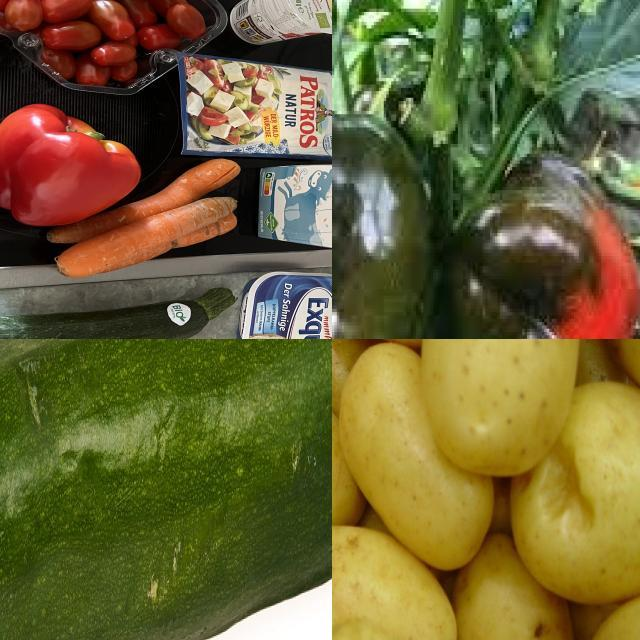bell_pepper: (452, 130, 640, 340), (333, 74, 436, 340), (1, 103, 134, 233)
carrot: (74, 192, 249, 280)
cucumber: (1, 340, 333, 640)
potato: (511, 384, 640, 604), (426, 340, 576, 481), (455, 528, 577, 640)
tomato: (1, 1, 177, 71)
zucchini: (1, 277, 243, 340)
